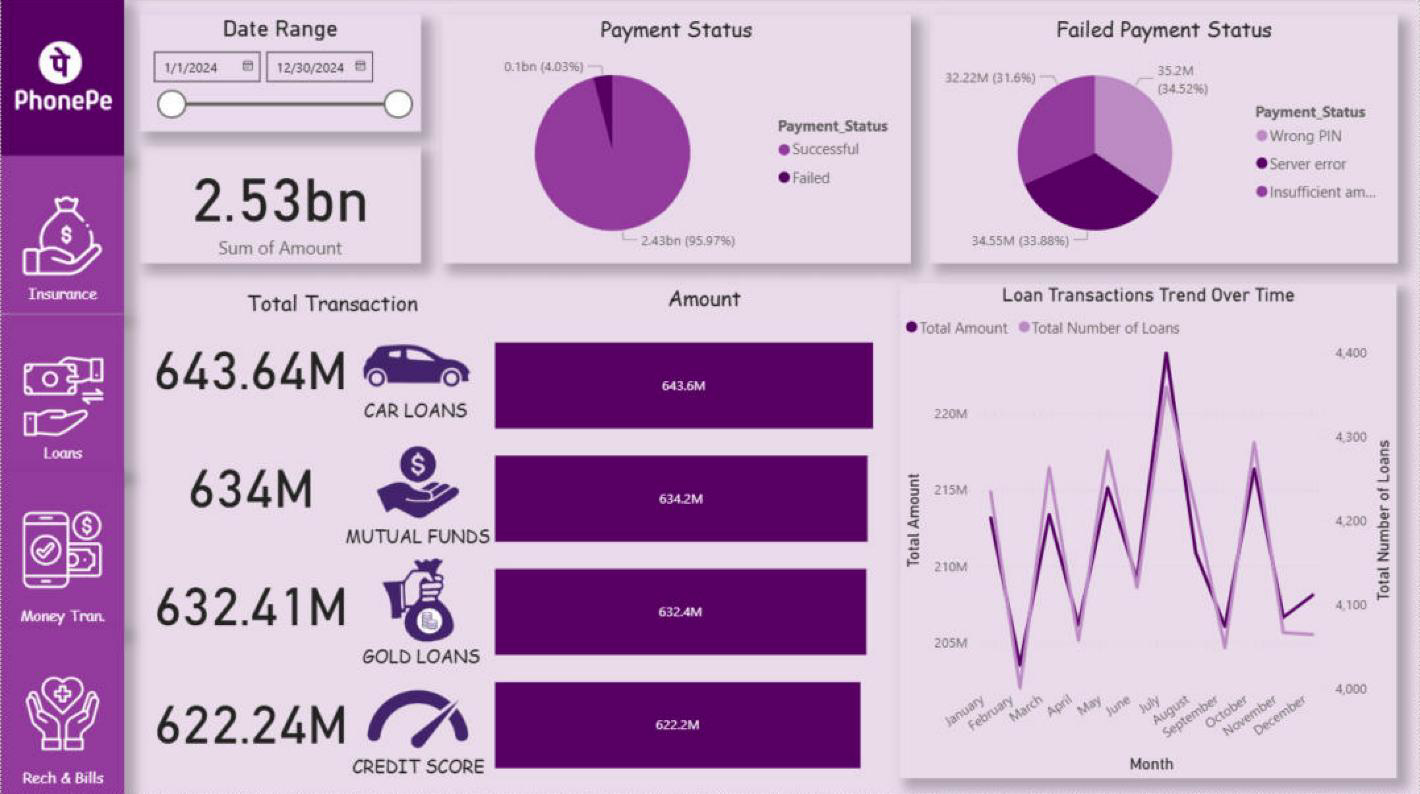

The page's visual inventory and layout, read from the dashboard file:
{"tool":"powerbi","page":{"name":"Loans","canvas":[1280,720],"ordinal":2},"visuals":[{"type":"shape","box":[0,0,111,142.4],"z":0},{"type":"image","box":[320,277.4,112.3,105.9],"z":0,"group":"g4"},{"type":"shape","box":[0,142.4,111,142.4],"z":1000},{"type":"image","box":[320,489.1,112.3,107.2],"z":1000,"group":"g4"},{"type":"shape","box":[0,284.7,111,142.4],"z":2000},{"type":"image","box":[320,383.3,112.3,105.9],"z":2000,"group":"g4"},{"type":"shape","box":[0,426.1,111.6,142],"z":3000},{"type":"image","box":[320,596.3,112.3,107.2],"z":3000,"group":"g4"},{"type":"shape","box":[0,568.1,111.1,152.3],"z":4000},{"type":"image","box":[0,23.2,111.6,97.1],"z":5000},{"type":"image","box":[1.2,168.9,111,88.1],"z":6000},{"type":"image","box":[0,600.8,111,88.1],"z":7000},{"type":"image","box":[1.2,314.9,111,89.3],"z":8000},{"type":"image","box":[0,452.4,111,90.5],"z":9000},{"type":"textbox","box":[0,252.8,111.1,31.5],"z":10000},{"type":"textbox","box":[0,395.4,112,31.5],"z":11000},{"type":"textbox","box":[0,542.1,111.6,36.1],"z":12000},{"type":"textbox","box":[0,688.6,112,31.5],"z":13000},{"type":"slicer","title":"Date Range","fields":{"Values":["All_Transactions.Date"]},"box":[124.9,15.1,253.9,105.7],"z":14000},{"type":"card","fields":{"Values":["Sum(All_Transactions.Amount)"]},"box":[124.9,133.1,253.9,105.7],"z":15000},{"type":"card","fields":{"Values":["Sum(Loans.Loan_Amount)"]},"box":[130.3,490.1,189.5,106.8],"z":15000,"group":"g3"},{"type":"pieChart","title":"Failed Payment Status","fields":{"Y":["Sum(All_Transactions.Amount)"],"Category":["All_Transactions.Payment_Status"]},"box":[837.1,15.1,422.6,223.7],"z":16000},{"type":"card","fields":{"Values":["Sum(Loans.Loan_Amount)"]},"box":[129.7,277.7,190.8,105.4],"z":16000,"group":"g3"},{"type":"pieChart","title":"Payment Status","fields":{"Category":["Loans.Payment_Status"],"Y":["Sum(Loans.Loan_Amount)"]},"box":[397.9,15.1,422.6,223.7],"z":17000},{"type":"card","fields":{"Values":["Sum(Loans.Loan_Amount)"]},"box":[130.3,596.9,189.5,106.8],"z":17000,"group":"g3"},{"type":"textbox","box":[126,256.8,344.8,37.9],"z":18000},{"type":"card","fields":{"Values":["Sum(Loans.Loan_Amount)"]},"box":[130.3,383.3,189.5,106.8],"z":18000,"group":"g3"},{"type":"actionButton","box":[0,0,111.1,140],"z":19000},{"type":"actionButton","box":[0,284,111.1,140],"z":20000},{"type":"actionButton","box":[0,420.4,111.6,139.8],"z":21000},{"type":"actionButton","box":[0,564,111.1,156.4],"z":22000},{"type":"actionButton","box":[0,140,111.1,140],"z":23000},{"type":"lineChart","title":"Loan Transactions Trend Over Time","fields":{"Category":["Loans.Date.Variation.Date Hierarchy.Month"],"Y":["Sum(Loans.Loan_Amount)"],"Y2":["CountNonNull(Loans.Loan_Type)"]},"box":[810.5,257,449.1,446.7],"z":24000},{"type":"barChart","fields":{"Y":["Sum(Loans.Loan_Amount)"],"Category":["Loans.Loan_Type"]},"box":[440.7,297.8,396.2,405.9],"z":25000},{"type":"textbox","box":[458.3,252.5,351.3,61.7],"z":26000},{"type":"group","id":"g1","title":"Group 4","box":[129.7,277.4,302.6,426.1],"z":27000,"group":"g5"},{"type":"group","id":"g2","title":"Group 2","box":[129.7,277.7,190.8,426],"z":27000,"group":"g1"},{"type":"group","id":"g3","title":"Group 3","box":[129.7,277.7,190.8,426],"z":27003,"group":"g2"},{"type":"textbox","box":[318,355.6,112.1,33.9],"z":28000,"group":"g5"},{"type":"group","id":"g4","title":"Group 1","box":[320,277.4,112.3,426.1],"z":28004,"group":"g1"},{"type":"textbox","box":[294.6,469.1,163.3,38.4],"z":29000,"group":"g5"},{"type":"textbox","box":[292.7,577.4,171.7,36],"z":30000,"group":"g5"},{"type":"textbox","box":[293.9,675.8,169.3,44.4],"z":31000,"group":"g5"},{"type":"group","id":"g5","title":"Group 5","box":[129.7,277.4,334.7,442.9],"z":31001}]}

Visuals, with their boxes in screenshot pixels (x1, y1, x2, y2), scaled from the page's 1280x720 canvas onto the 1420x794 screenshot:
shape: 0, 0, 123, 157
image: 355, 306, 480, 423
shape: 0, 157, 123, 314
image: 355, 539, 480, 658
shape: 0, 314, 123, 471
image: 355, 423, 480, 539
shape: 0, 470, 124, 626
image: 355, 658, 480, 776
shape: 0, 626, 123, 793
image: 0, 26, 124, 133
image: 1, 186, 124, 283
image: 0, 663, 123, 760
image: 1, 347, 124, 446
image: 0, 499, 123, 599
textbox: 0, 279, 123, 314
textbox: 0, 436, 124, 471
textbox: 0, 598, 124, 638
textbox: 0, 759, 124, 793
"Date Range" slicer: 139, 17, 420, 133
card - Sum(All_Transactions.Amount): 139, 147, 420, 263
card - Sum(Loans.Loan_Amount): 145, 540, 355, 658
"Failed Payment Status" pieChart: 929, 17, 1397, 263
card - Sum(Loans.Loan_Amount): 144, 306, 356, 422
"Payment Status" pieChart: 441, 17, 910, 263
card - Sum(Loans.Loan_Amount): 145, 658, 355, 776
textbox: 140, 283, 522, 325
card - Sum(Loans.Loan_Amount): 145, 423, 355, 540
actionButton: 0, 0, 123, 154
actionButton: 0, 313, 123, 468
actionButton: 0, 464, 124, 618
actionButton: 0, 622, 123, 793
actionButton: 0, 154, 123, 309
"Loan Transactions Trend Over Time" lineChart: 899, 283, 1397, 776
barChart - Sum(Loans.Loan_Amount) x Loans.Loan_Type: 489, 328, 928, 776
textbox: 508, 278, 898, 346
"Group 4" group: 144, 306, 480, 776
"Group 2" group: 144, 306, 356, 776
"Group 3" group: 144, 306, 356, 776
textbox: 353, 392, 477, 430
"Group 1" group: 355, 306, 480, 776
textbox: 327, 517, 508, 560
textbox: 325, 637, 515, 676
textbox: 326, 745, 514, 793
"Group 5" group: 144, 306, 515, 793
